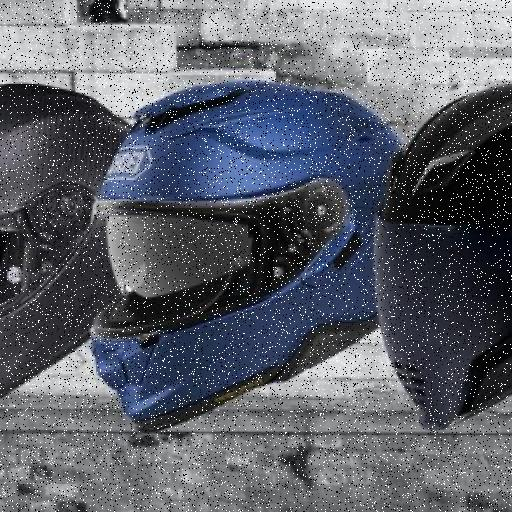Helmet: (90, 80, 394, 440)
